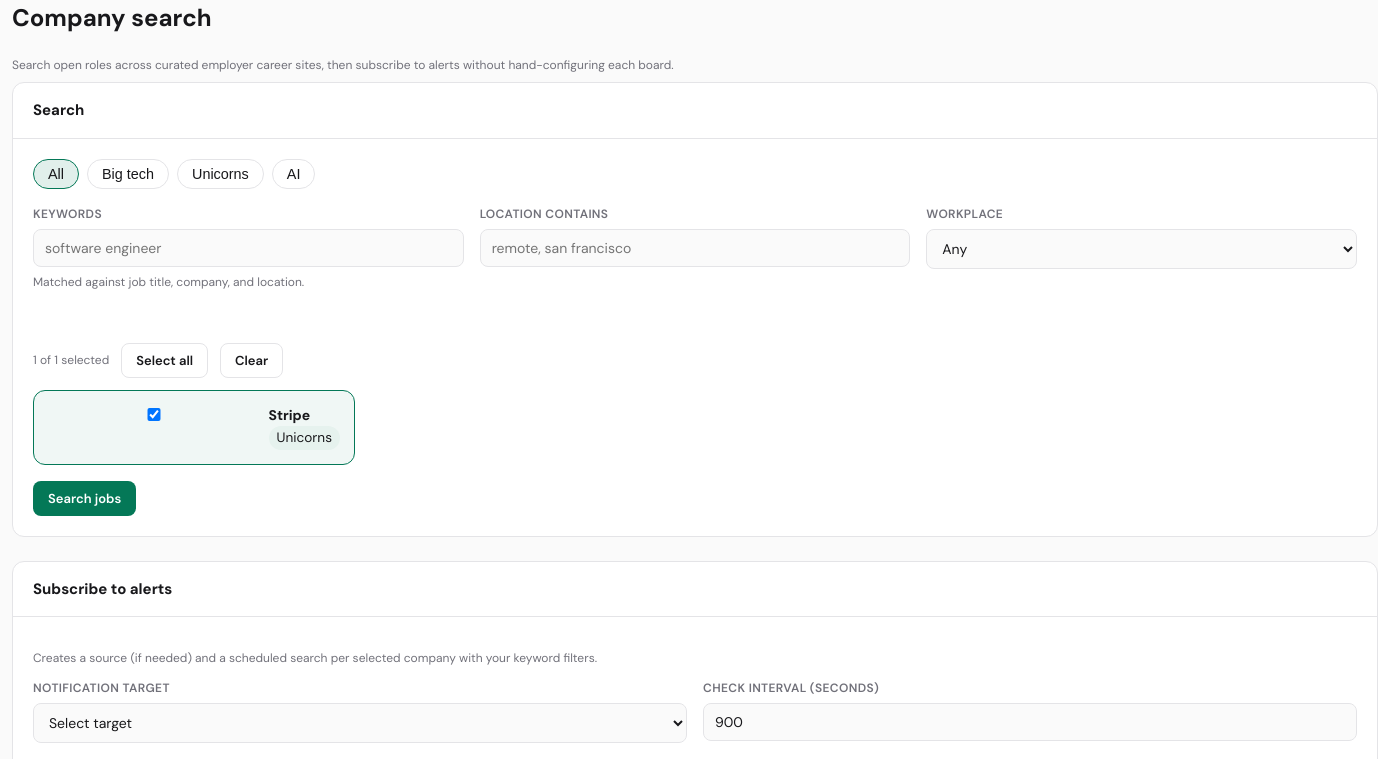
PortalsPage › shows a success notice after creating alerts
Expected: the text "Stripe" is shown, [268,406,310,424]
Type "engineer" into the field with placeholder "software engineer".
click(248, 248); type("engineer")  # box [33,228,464,266]
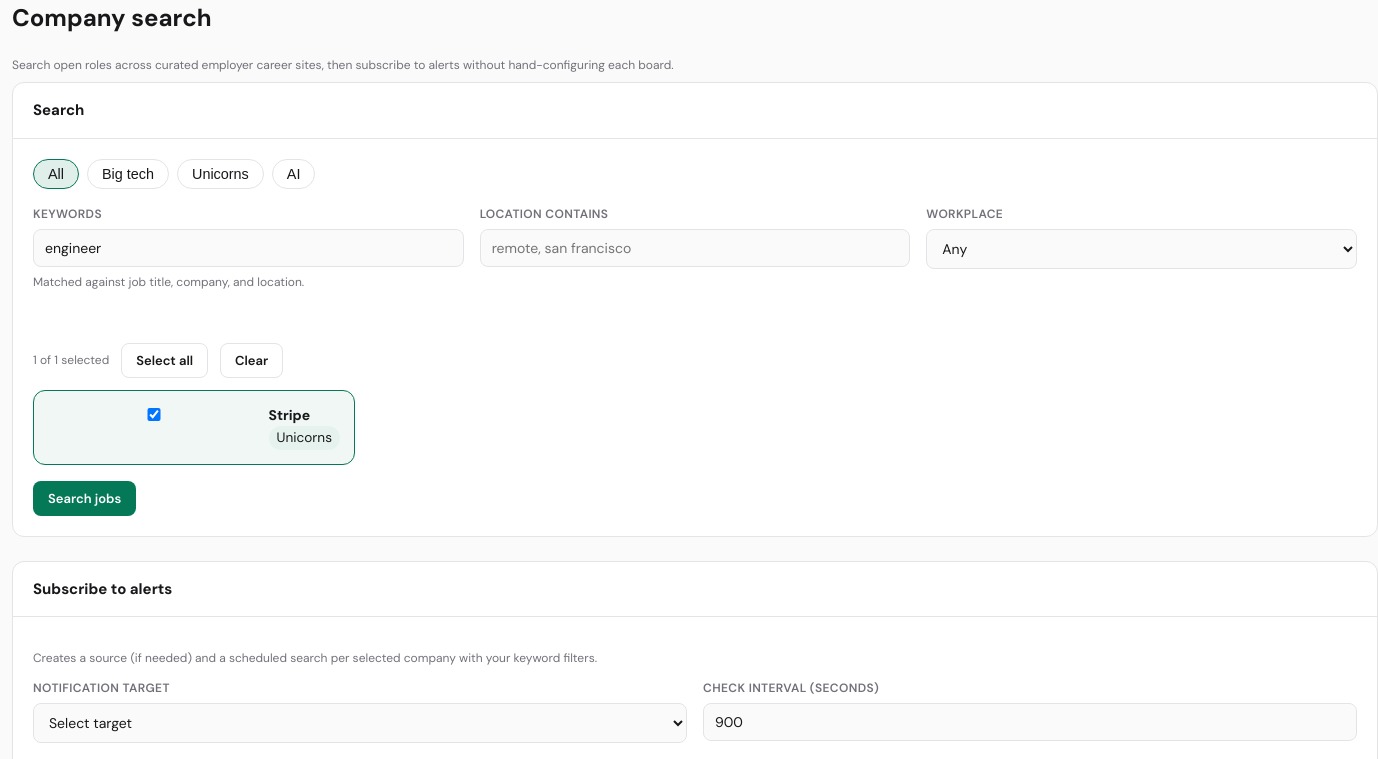
Select "My phone (ntfy)" in the dropdown showing "Select target" at (360, 723), box [33,703,687,743]
(page scrolled)
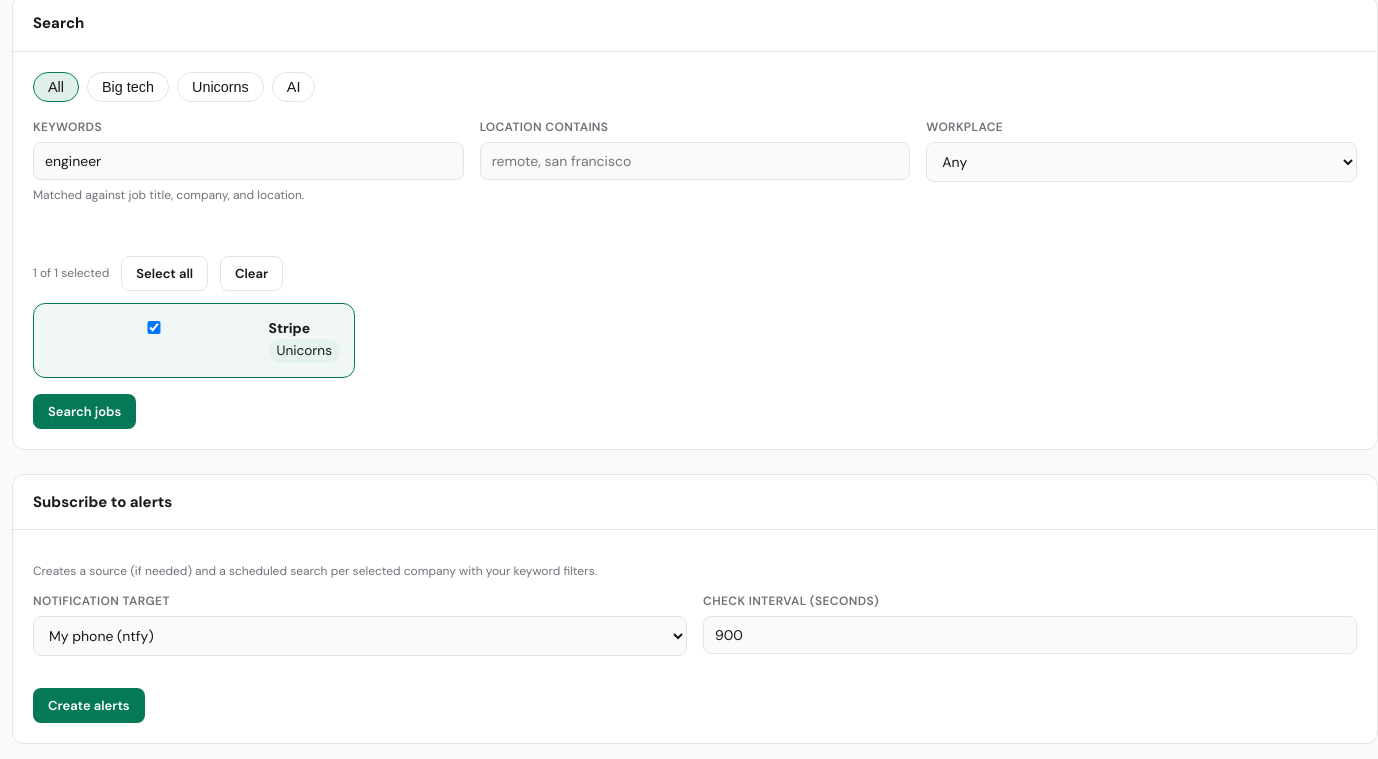
Click the button "Create alerts".
click(89, 706)  # box [33,688,145,723]
(page scrolled)
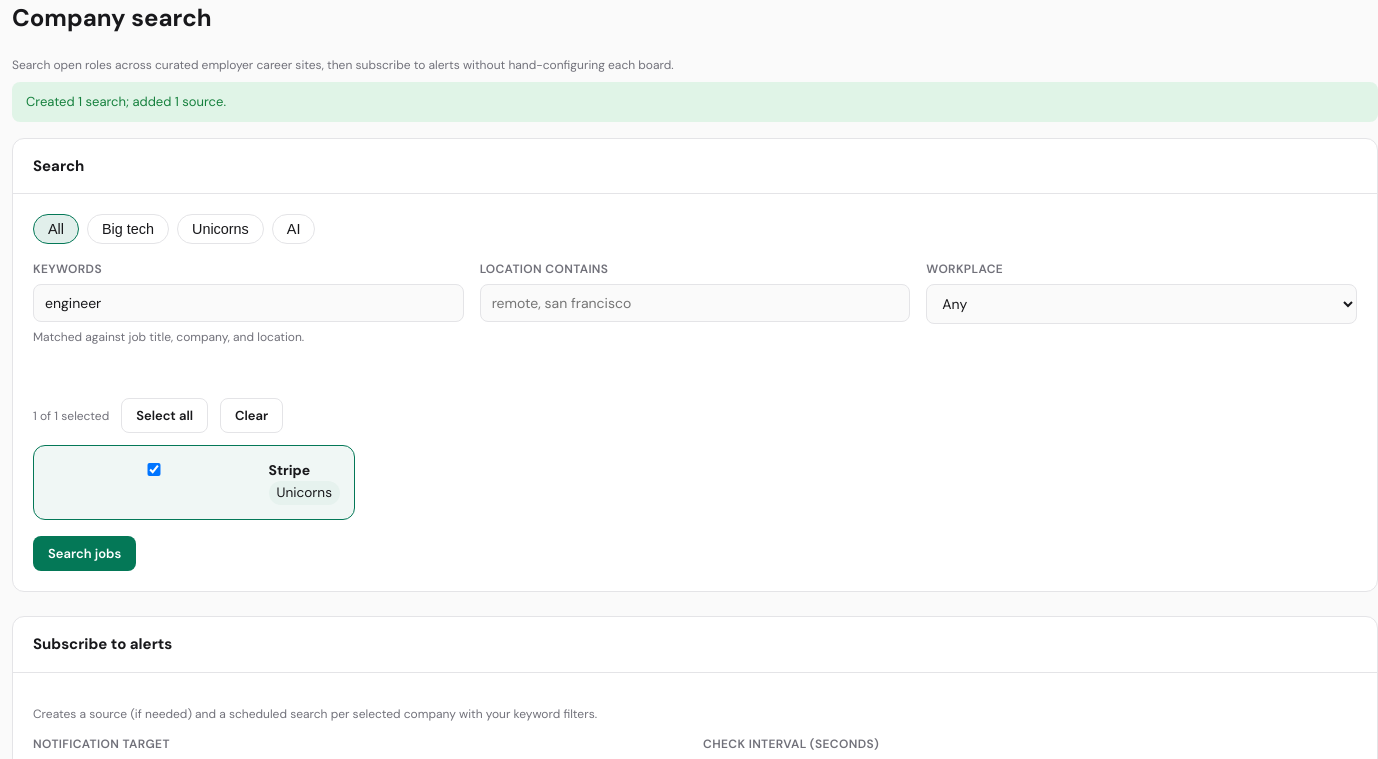
Now the text "Created 1 search; added 1 source." is shown, box [12,82,1377,122]
